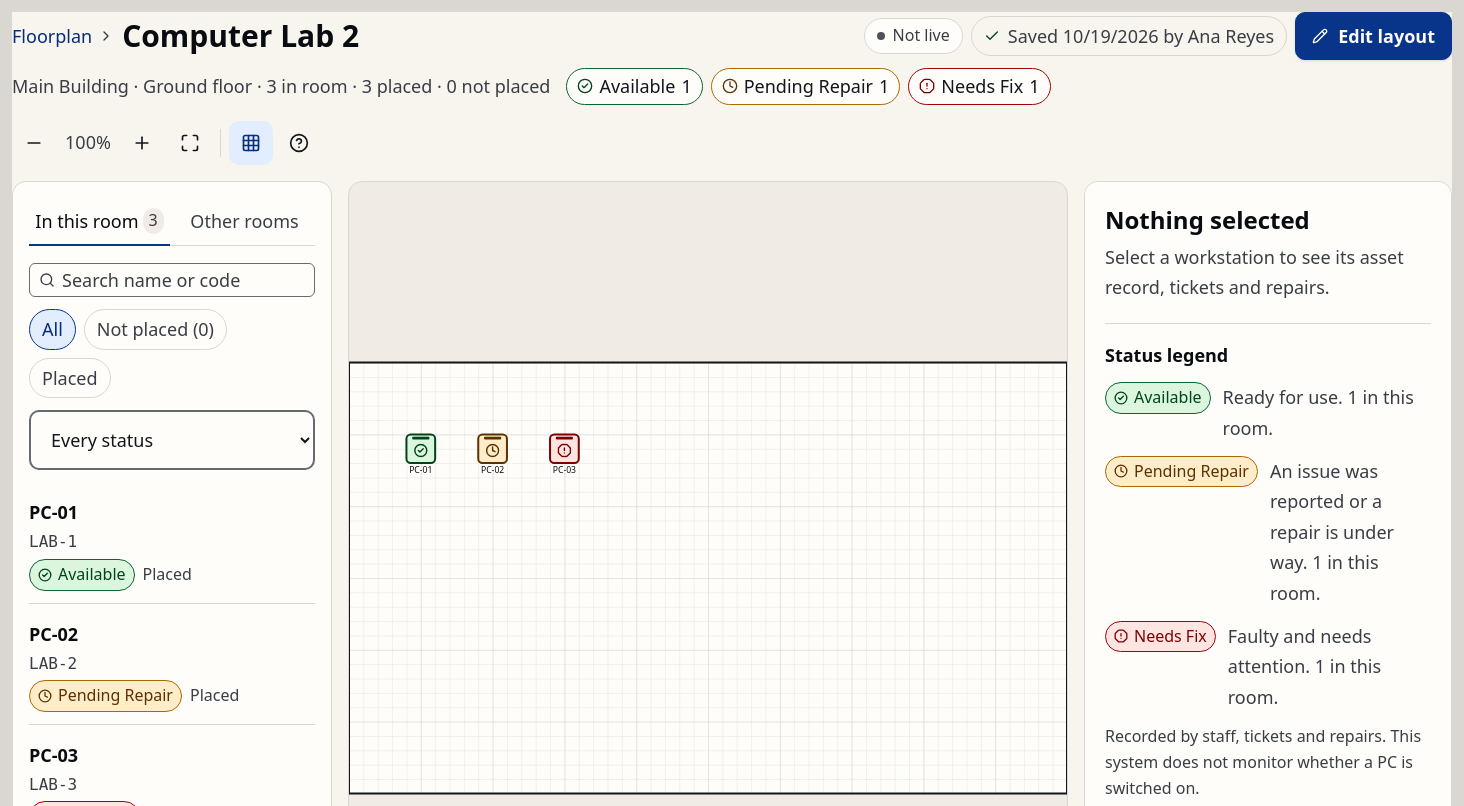
Test: view mode › offers no editing tools until "Edit layout"
Expected: the heading "Computer Lab 2" is shown, top-left (122, 15), bottom-right (359, 57)
Click the button "Edit layout": coordinates (1374, 36) top-left (1295, 12), bottom-right (1452, 60)
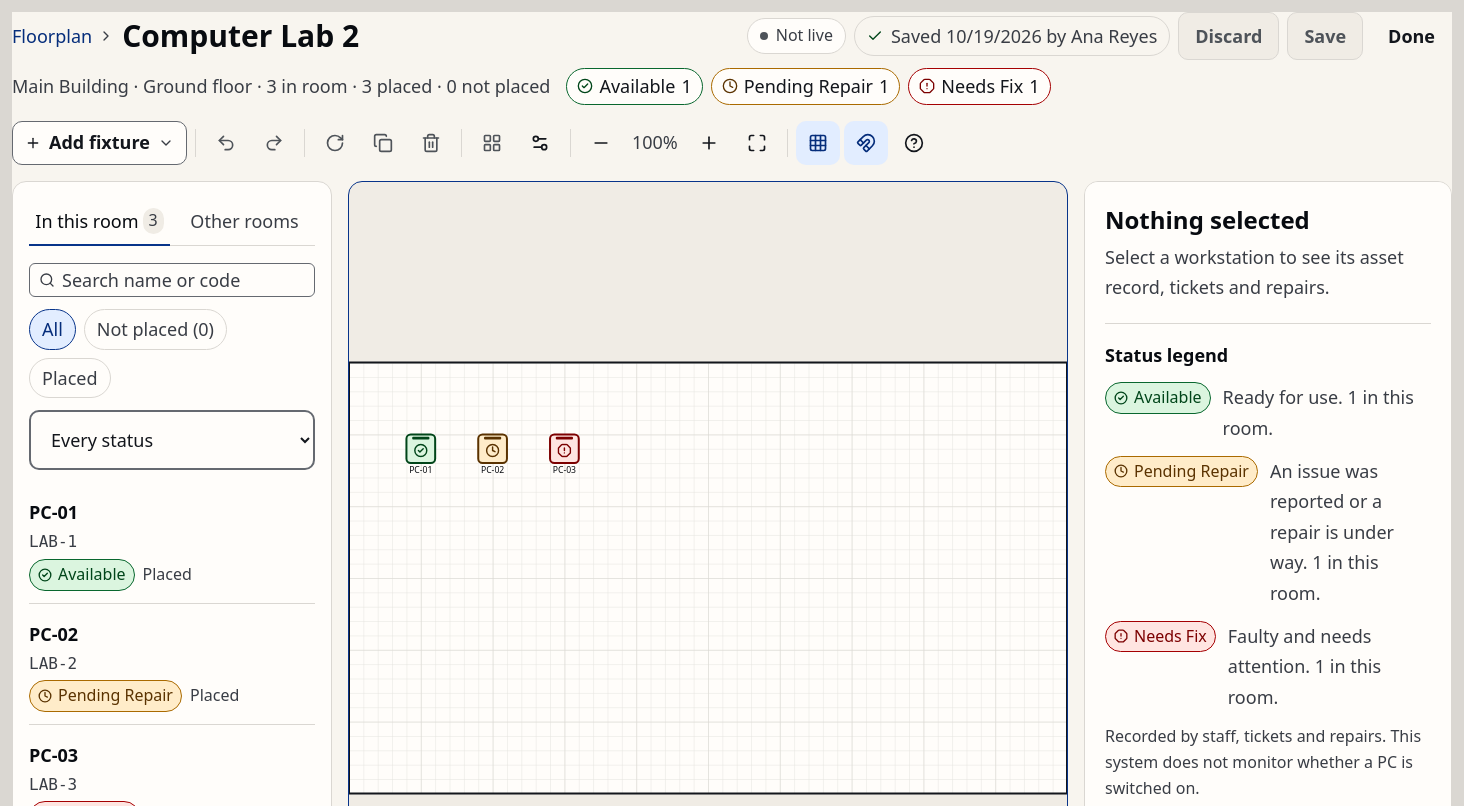
Result: the button named "Undo" is disabled at top-left (204, 121), bottom-right (248, 165)
